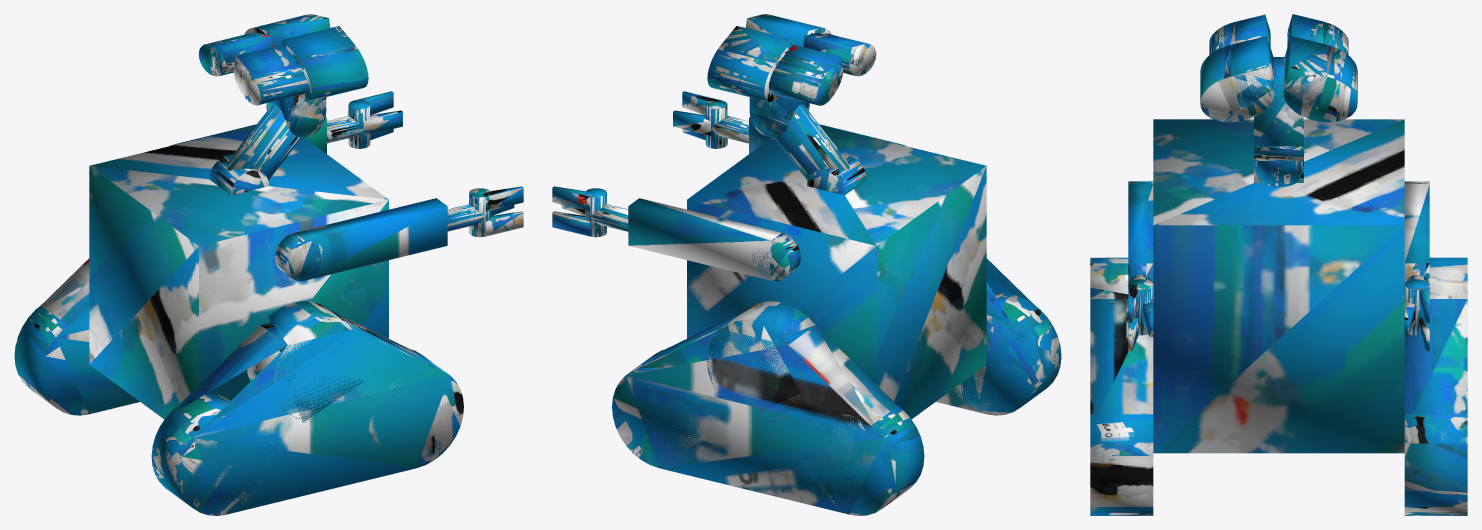
Rendered from walle.fbx.
3 views of the same model, side by side, from view 1: azimuth 30°, elevation 25°; view 2: azimuth 150°, elevation 25°; view 3: azimuth 270°, elevation 25° (orthographic). The views are drawn at different scales.
Parts seen in each view (by area): view 1: Mesh_0; view 2: Mesh_0; view 3: Mesh_0.
Part boxes in pixels (x1,y1,x2,y2): Mesh_0: [14, 14, 523, 515]; Mesh_0: [552, 14, 1061, 515]; Mesh_0: [1090, 14, 1467, 515].
Size of the model in its own units: 196 by 200 by 154.
